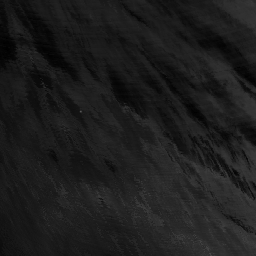Target: (77, 109, 82, 113)
